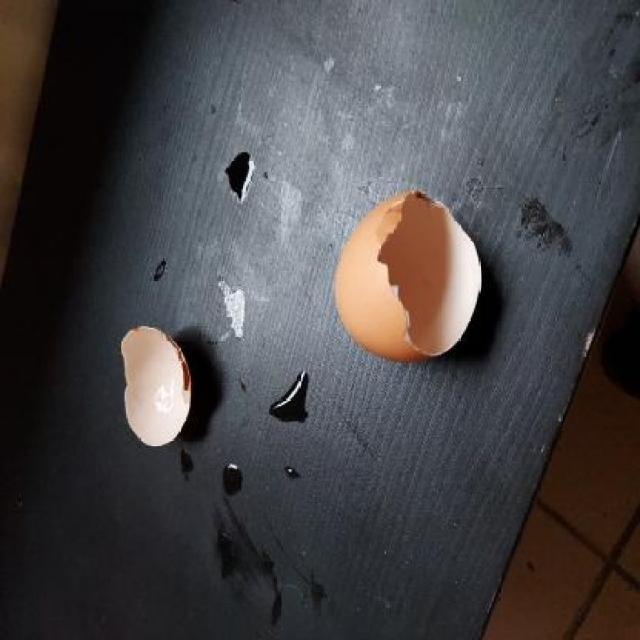biodegradable: (334, 184, 484, 364), (115, 316, 198, 458)
